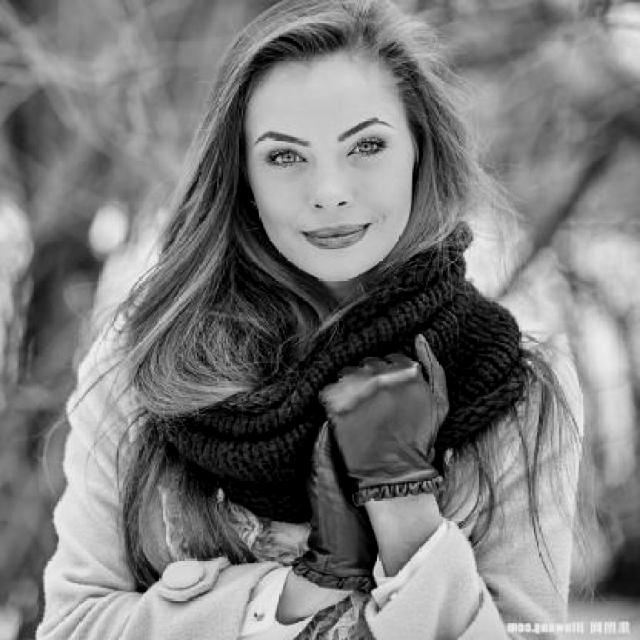face_nomask: (260, 78, 418, 280)
hand_glove: (317, 331, 449, 480), (294, 423, 386, 575)
head_nohelmet: (237, 6, 458, 103)
person: (42, 1, 637, 640)
